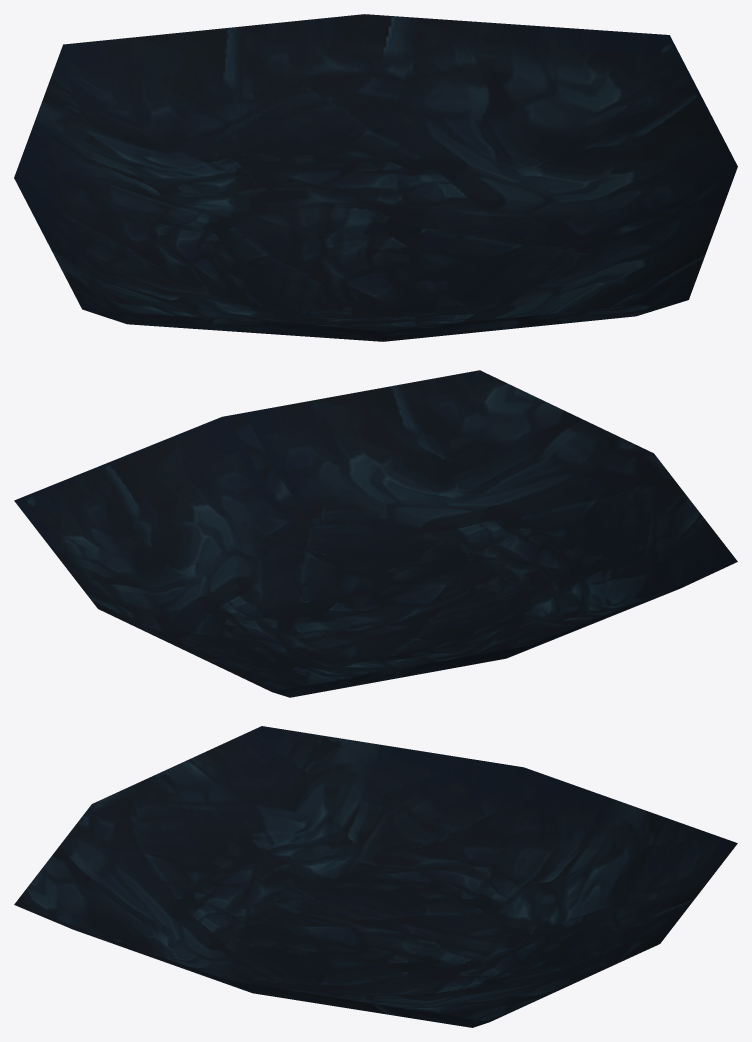
Rendered from H_Maze_BackView.FBX.
3 views of the same model, one above another, from view 1: azimuth 30°, elevation 25°; view 2: azimuth 150°, elevation 25°; view 3: azimuth 270°, elevation 25° (orthographic). The views are drawn at different scales.
Parts seen in each view (by area): view 1: BackView; view 2: BackView; view 3: BackView.
Boxes of the visible parts, <box> form: BackView: <box>14,14,737,341</box>; BackView: <box>14,370,737,697</box>; BackView: <box>14,726,737,1027</box>.
Bounding box in the file's own units: 8205 × 1083 × 8557.
